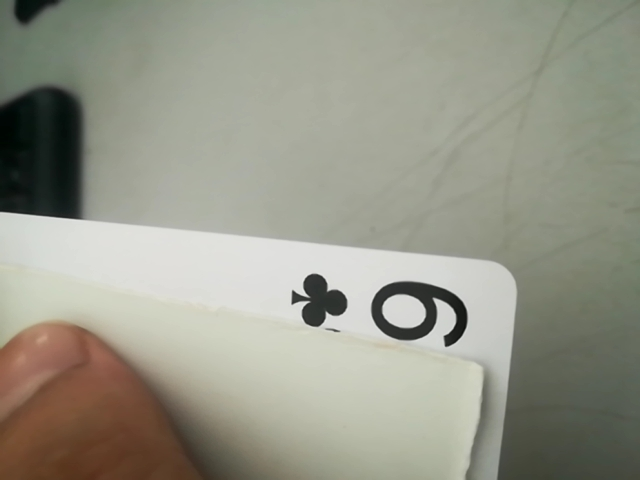mh 6: (268, 254, 498, 372)
